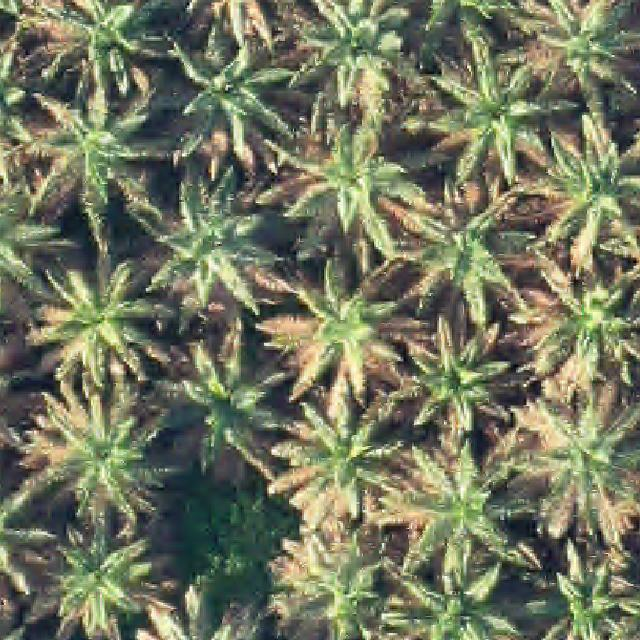oilpalm: (266, 255, 420, 415), (392, 164, 534, 329), (24, 385, 179, 532), (139, 172, 281, 328), (28, 249, 181, 389), (22, 85, 163, 235), (270, 394, 414, 535), (422, 34, 565, 173), (286, 109, 424, 251), (395, 435, 532, 578), (156, 33, 297, 161), (390, 310, 514, 449), (165, 330, 285, 472), (518, 391, 640, 525), (522, 250, 640, 384), (535, 115, 640, 260), (291, 0, 430, 103), (34, 529, 156, 640), (280, 530, 395, 640)
